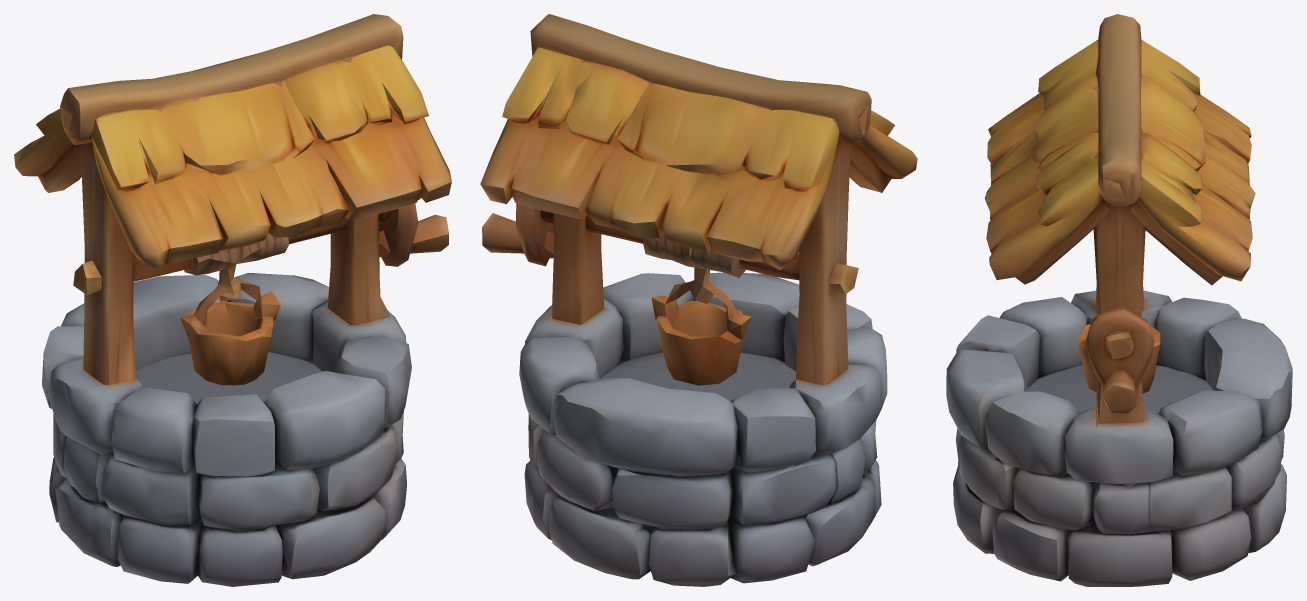
The model's file is wishing_well.glb.
3 renders of one model, left to right at view 1: azimuth 30°, elevation 25°; view 2: azimuth 150°, elevation 25°; view 3: azimuth 270°, elevation 25°, orthographic. The views are drawn at different scales.
Parts seen in each view (by area): view 1: wishing_well; view 2: wishing_well; view 3: wishing_well.
Boxes of the visible parts, x1,y1,x2,y2 form: wishing_well: (14, 14, 451, 586); wishing_well: (480, 14, 917, 586); wishing_well: (946, 14, 1292, 586).
Bounding box in the file's own units: 2.69 × 3.2 × 2.28.
Materials: 1 (1 with a texture image).
